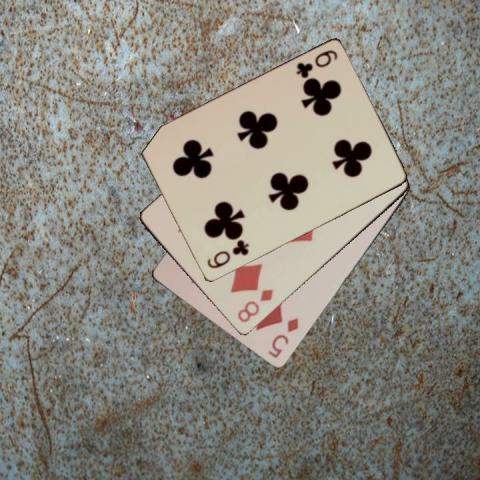5d: (265, 315, 300, 360)
6c: (204, 237, 250, 271), (293, 47, 339, 80)
8d: (234, 286, 275, 325)
